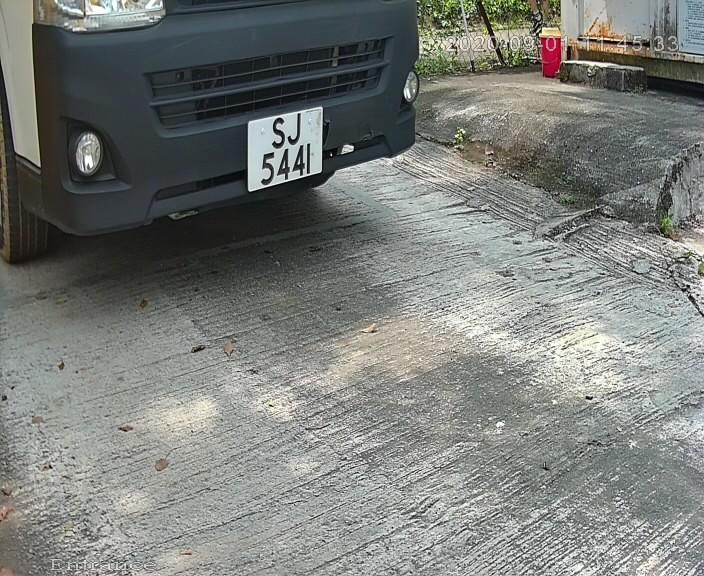License Plate: (239, 98, 331, 201)
